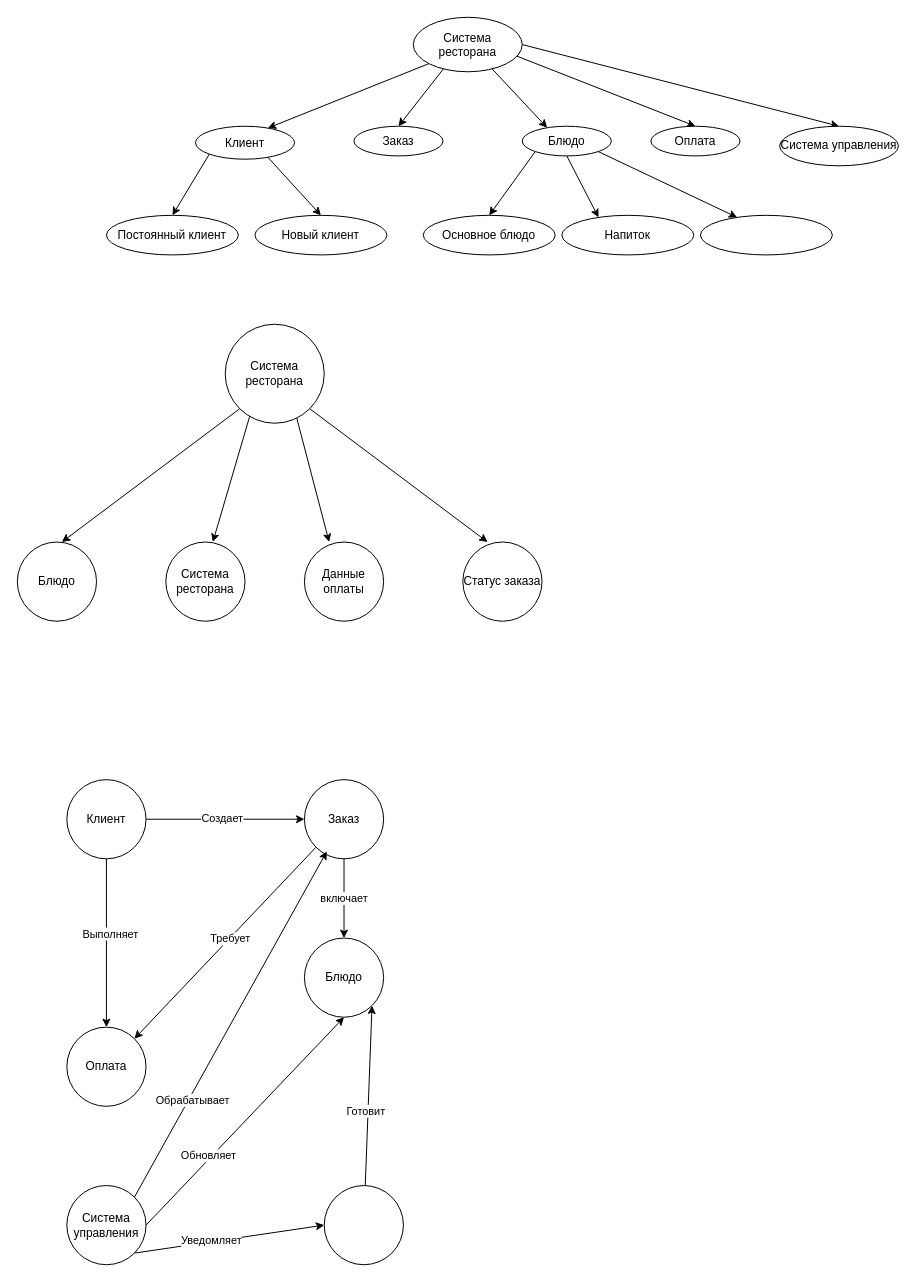
This 916x1282 diagram has some shape labels left out. Here are the shapes that lost their labels. From the top down, the centre of each, then its label:
(765,234): Десерт
(363,1225): Повар
